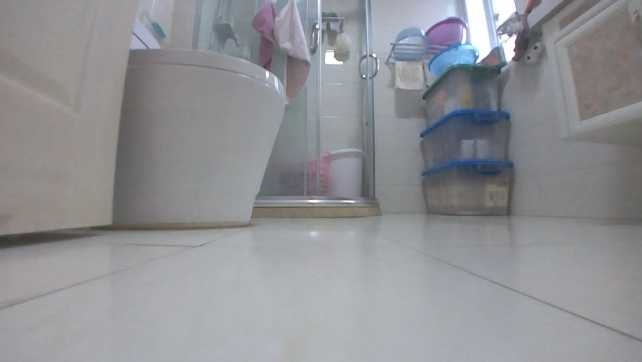toilet: (112, 43, 292, 229)
washstand: (523, 0, 641, 149)
